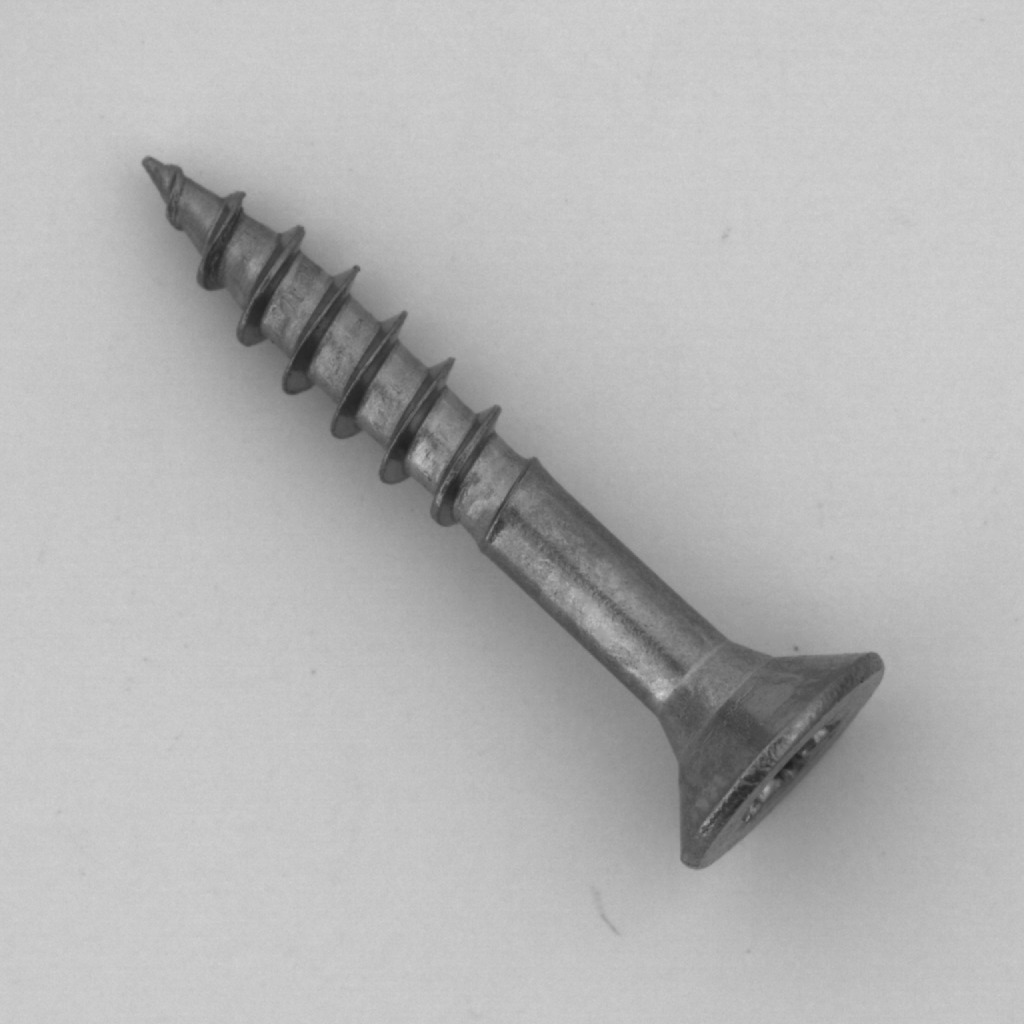good: (122, 122, 898, 883)
